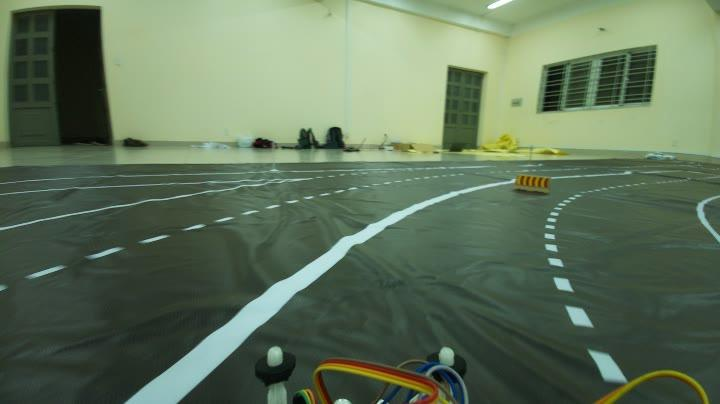roadblock: (510, 170, 556, 193)
